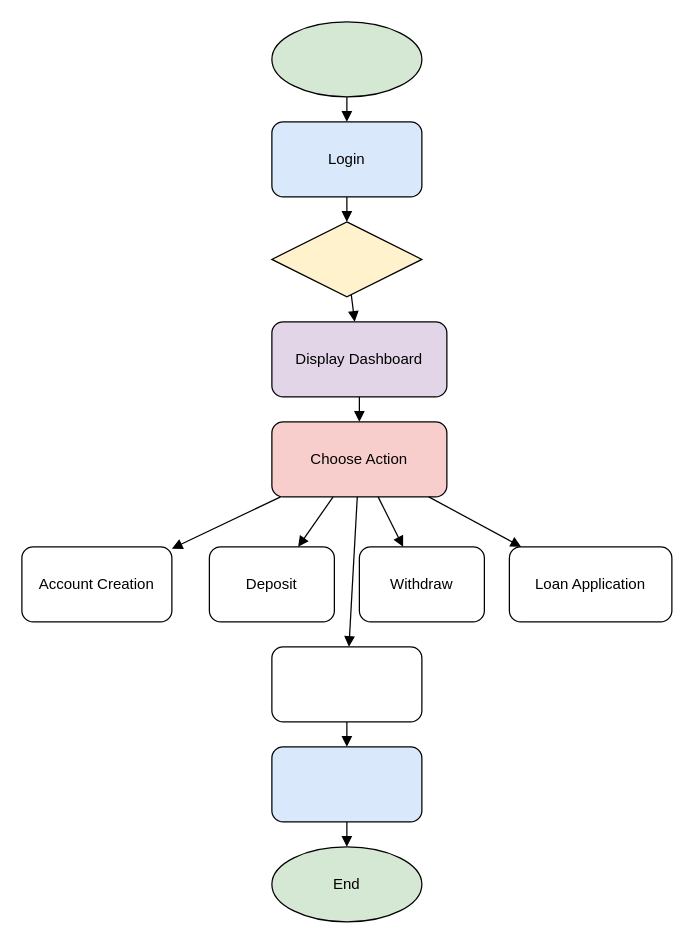
Image size: 694x944. Some labels were removed from this diagram. Here are the shapes that lost their labels. From the top down, the centre of each, then its label:
At point (346, 59): "Start".
At point (346, 259): "Is Login Successful?".
At point (346, 684): "View Status".
At point (346, 784): "Logout".
